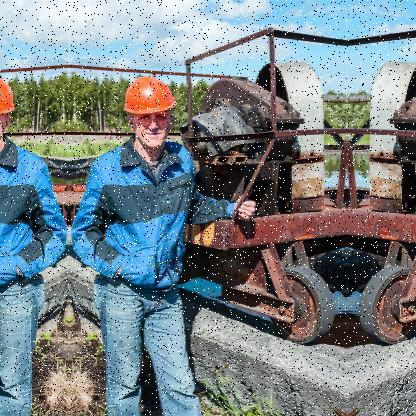Helmet: (115, 73, 180, 155), (0, 78, 19, 152)
